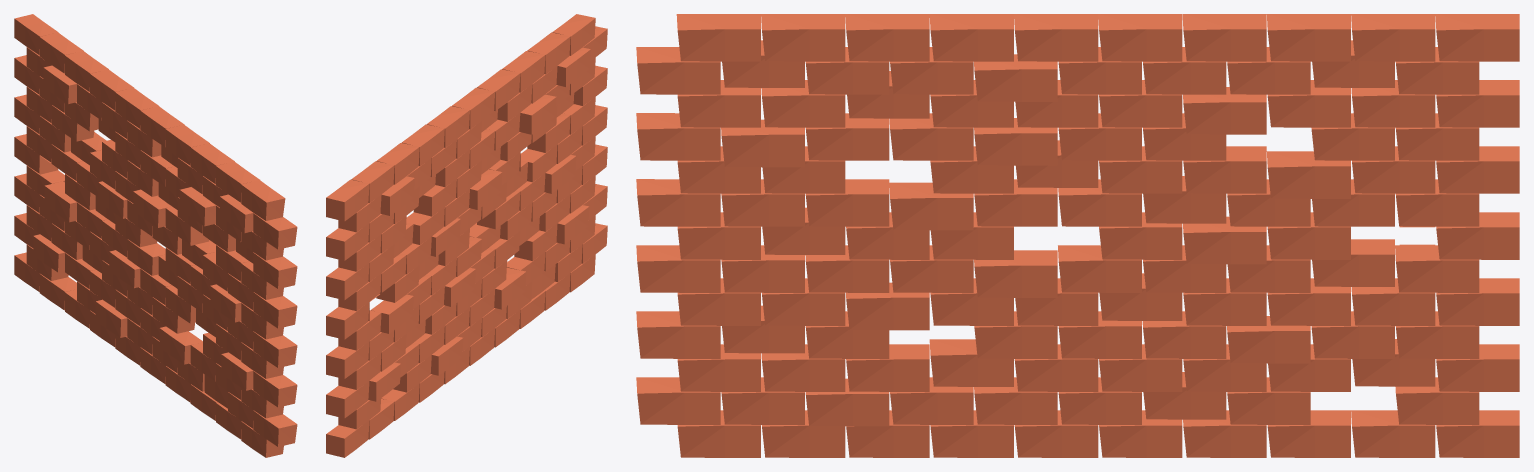
File: jenga_wall.dae
3 views of the same model, side by side, from view 1: azimuth 30°, elevation 25°; view 2: azimuth 150°, elevation 25°; view 3: azimuth 270°, elevation 25° (orthographic). The views are drawn at different scales.
Visible parts, largest first — view 1: Cube; view 2: Cube; view 3: Cube.
Boxes of the visible parts, <box> form: Cube: <box>14,14,297,457</box>; Cube: <box>326,14,607,457</box>; Cube: <box>636,14,1519,457</box>.
Size of the model in its own units: 1.69 by 19.73 by 10.58.
